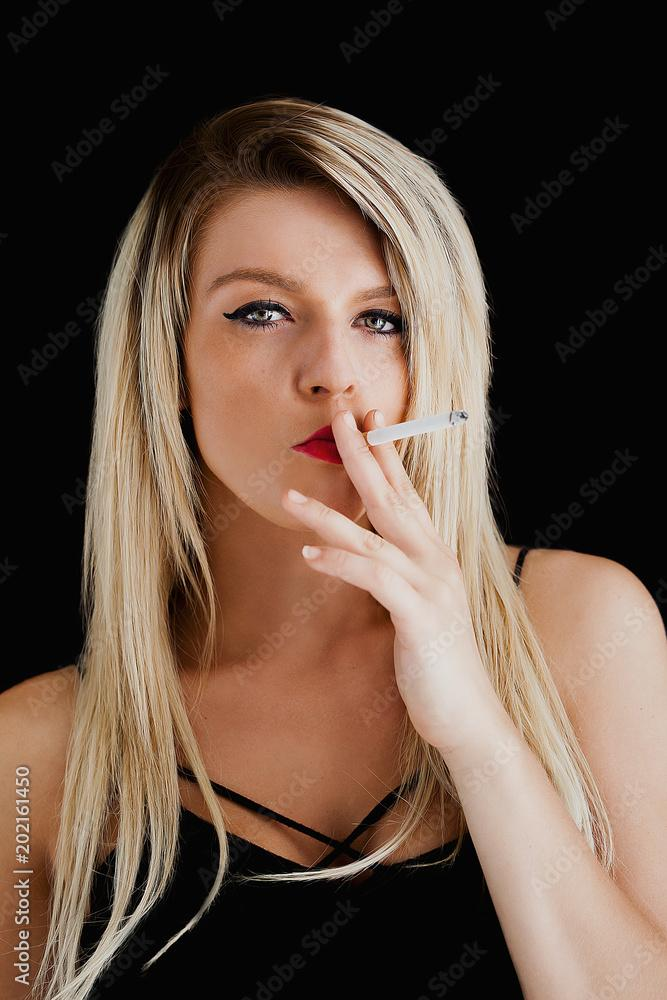cigarette: (363, 410, 467, 444)
